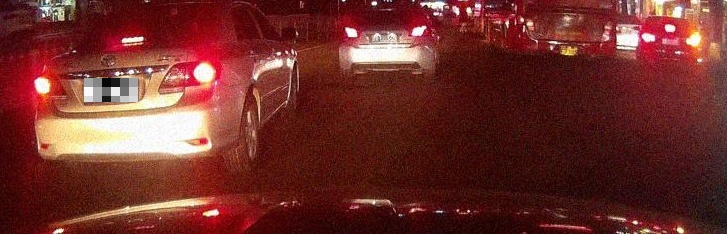L_light: (36, 75, 68, 99), (343, 27, 360, 38), (641, 33, 656, 42)
R_light: (158, 58, 220, 94), (408, 26, 429, 37), (686, 36, 698, 45)
T_light: (120, 34, 145, 46), (378, 7, 394, 12), (664, 24, 675, 31)
night-no: (35, 1, 223, 180), (339, 3, 438, 78)
night-right: (637, 15, 699, 67)
plate_1: (84, 78, 138, 102)
